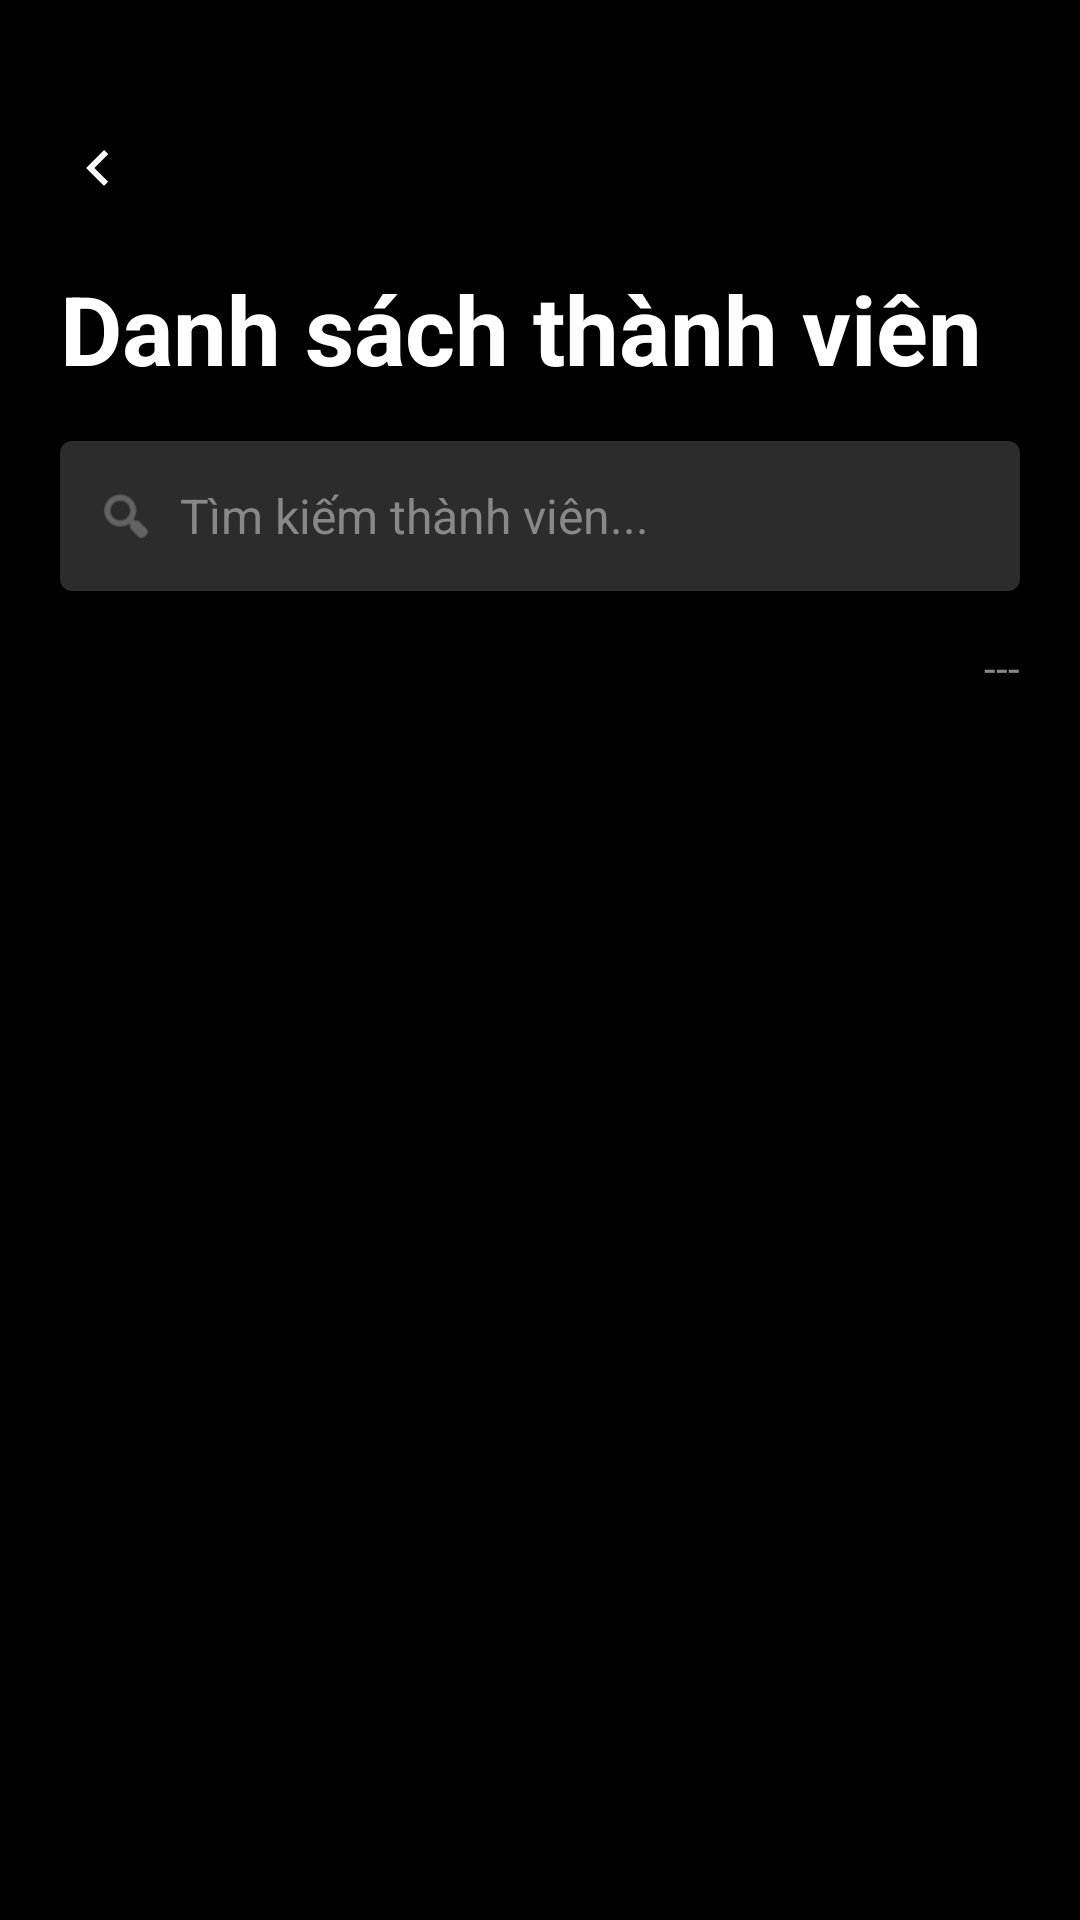

Icons on this 1080 × 1920 Android screen, each with its box as box(x1, y1, x2, y2):
search: box(104, 494, 148, 538)
